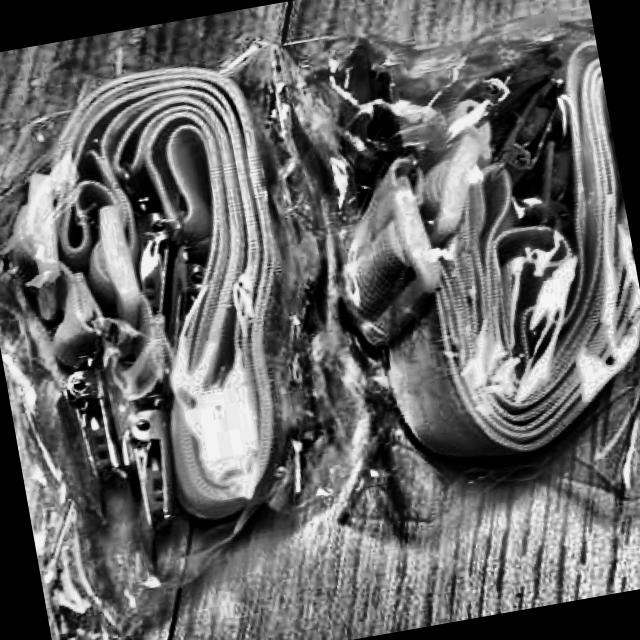Cable: (0, 47, 337, 546), (300, 35, 640, 475)
